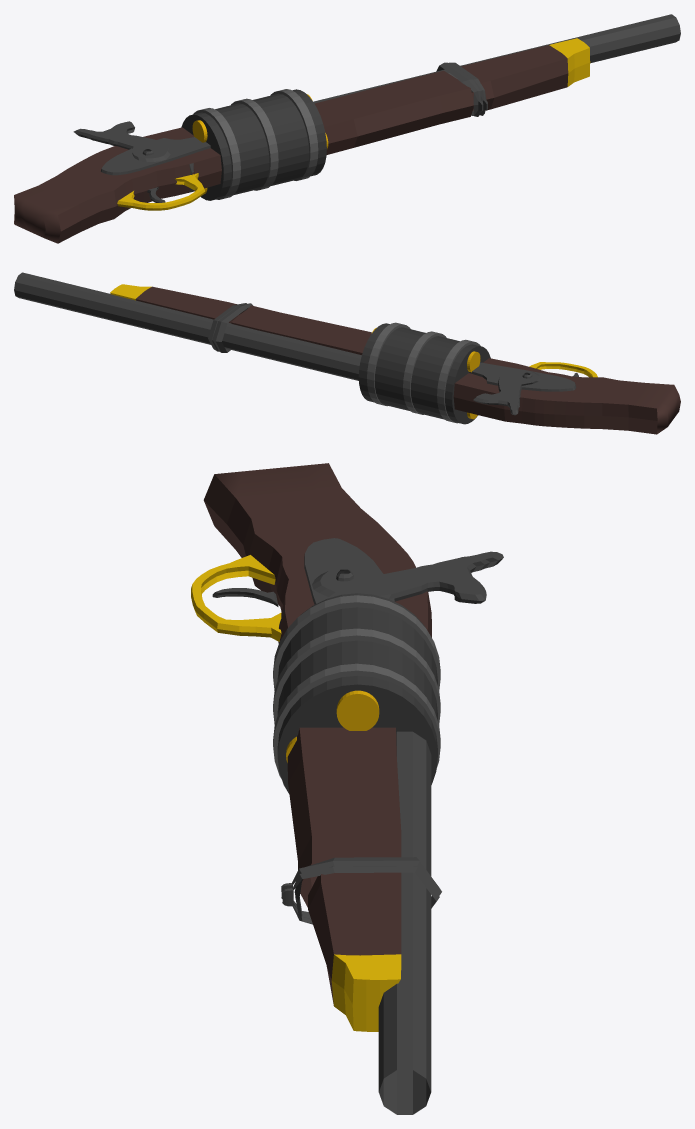
Rendered from Mushket_Barabane.fbx.
3 views of the same model, one above another, from view 1: azimuth 30°, elevation 25°; view 2: azimuth 150°, elevation 25°; view 3: azimuth 270°, elevation 25° (orthographic). The views are drawn at different scales.
Visible parts, largest first — view 1: Mushket; view 2: Mushket; view 3: Mushket.
Part boxes in pixels (<box>): Mushket: <box>14,14,680,243</box>; Mushket: <box>14,272,680,434</box>; Mushket: <box>191,463,503,1114</box>.
Bounding box in the file's own units: 189 × 22.04 × 41.17.
